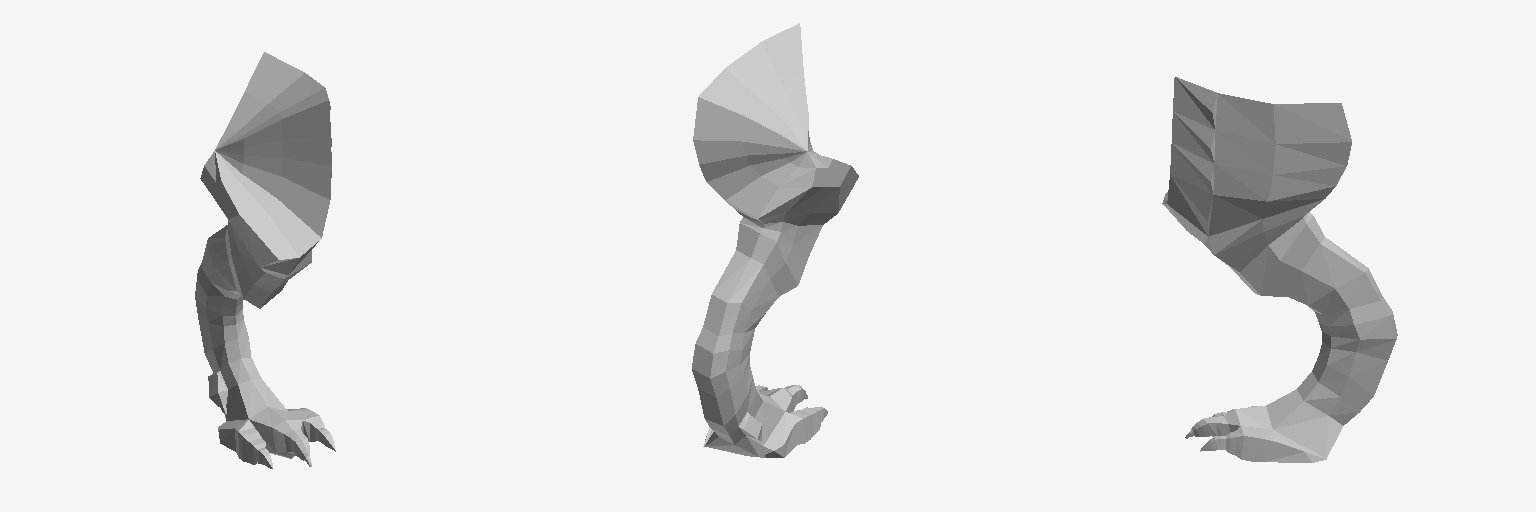
Rendered from spinosaurusRightLeg.obj.
3 renders of one model, left to right at view 1: azimuth 30°, elevation 25°; view 2: azimuth 150°, elevation 25°; view 3: azimuth 270°, elevation 25°, orthographic.
Parts seen in each view (by area): view 1: Legs_Cube.001; view 2: Legs_Cube.001; view 3: Legs_Cube.001.
Part boxes in pixels (bbox=[...]): Legs_Cube.001: bbox=[195, 52, 335, 468]; Legs_Cube.001: bbox=[692, 23, 858, 457]; Legs_Cube.001: bbox=[1162, 77, 1397, 462].
Bounding box in the file's own units: 0.8766 × 3.18 × 1.79.